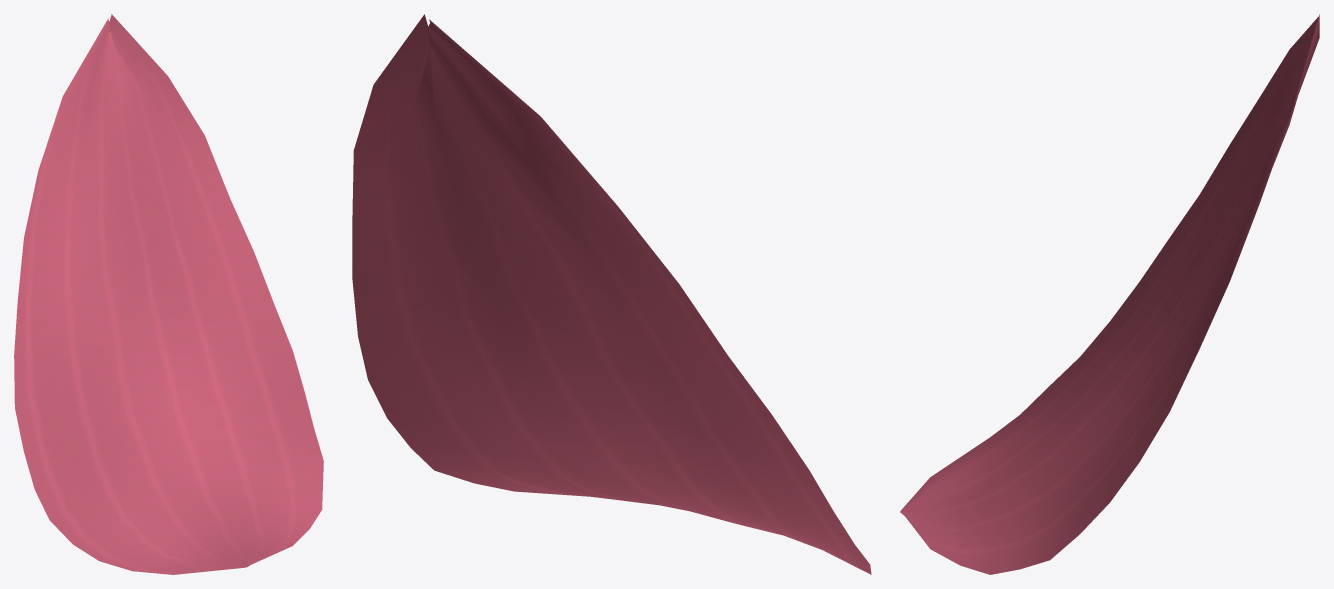
File: petal_11_curved.glb
3 views of the same model, side by side, from view 1: azimuth 30°, elevation 25°; view 2: azimuth 150°, elevation 25°; view 3: azimuth 270°, elevation 25° (orthographic). The views are drawn at different scales.
Visible parts, largest first — view 1: petal_11_curved; view 2: petal_11_curved; view 3: petal_11_curved.
Part boxes in pixels (left/top/right/bottom): petal_11_curved: left=14, top=14, right=323, bottom=574; petal_11_curved: left=352, top=14, right=871, bottom=574; petal_11_curved: left=900, top=14, right=1319, bottom=574.
Size of the model in its own units: 0.0885 by 0.1266 by 0.0922.
1 material, 1 textured.
